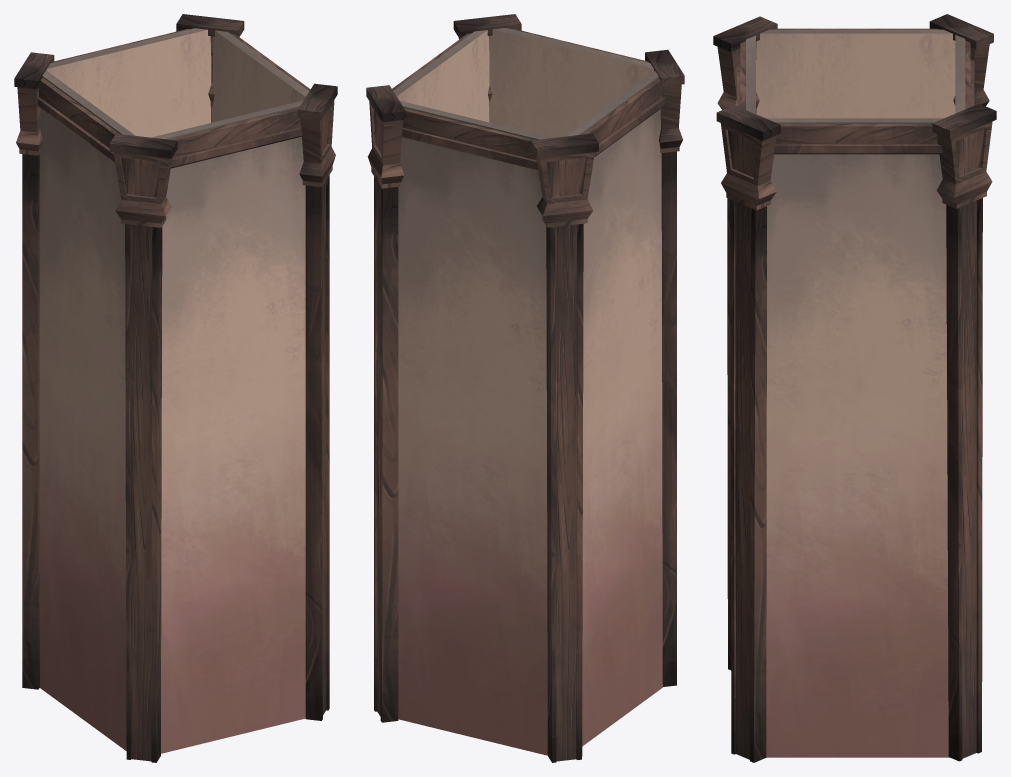
The model's file is Wall_Top_Half_Pillar_V1.fbx.
The picture shows the model from 3 angles, left to right: view 1: azimuth 30°, elevation 25°; view 2: azimuth 150°, elevation 25°; view 3: azimuth 270°, elevation 25°; orthographic projection. The views are drawn at different scales.
Visible parts, largest first — view 1: Top_HalfPillar; view 2: Top_HalfPillar; view 3: Top_HalfPillar.
Part boxes in pixels (<box>): Top_HalfPillar: <box>14,14,337,762</box>; Top_HalfPillar: <box>366,14,684,762</box>; Top_HalfPillar: <box>713,14,996,762</box>.
Bounding box in the file's own units: 0.0168 × 0.0422 × 0.017.
